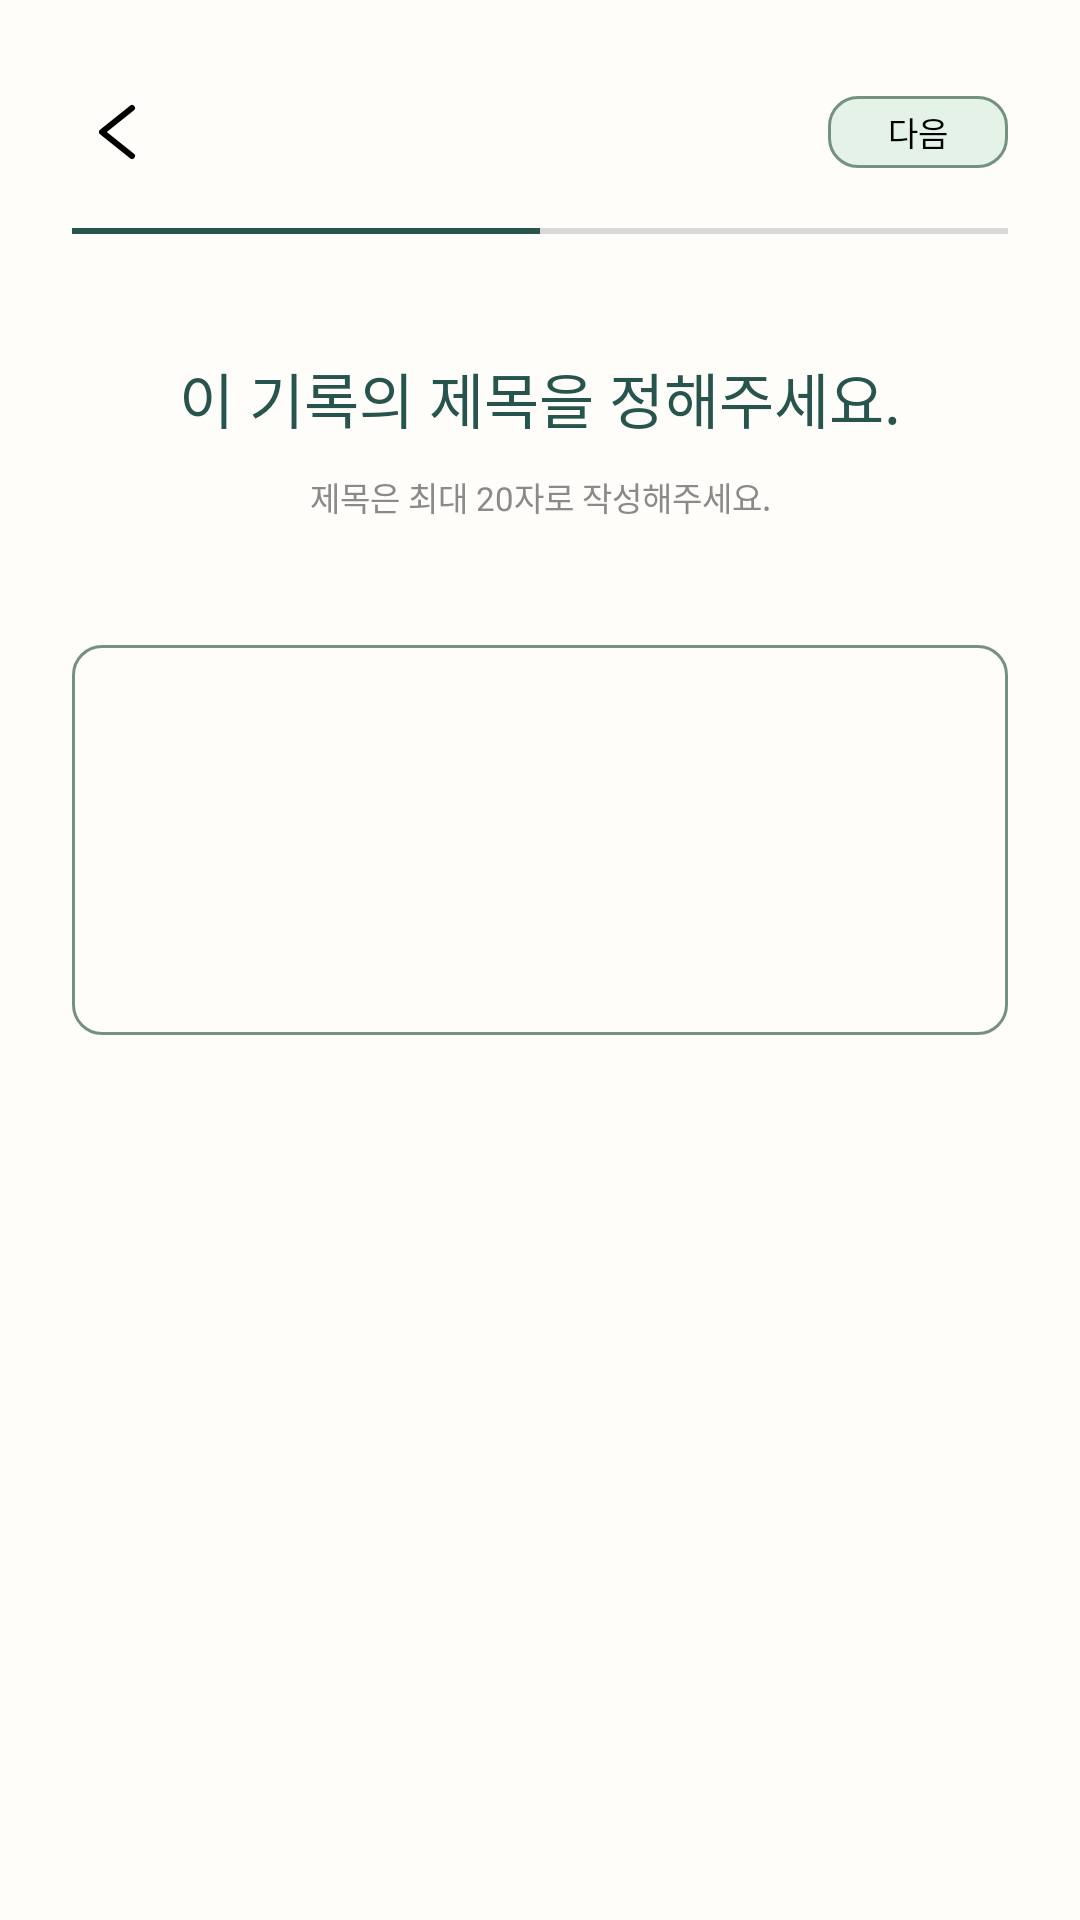

Icon click points for this 1080 × 1920 phone screenshot, format (x,y):
back: (117,132)
